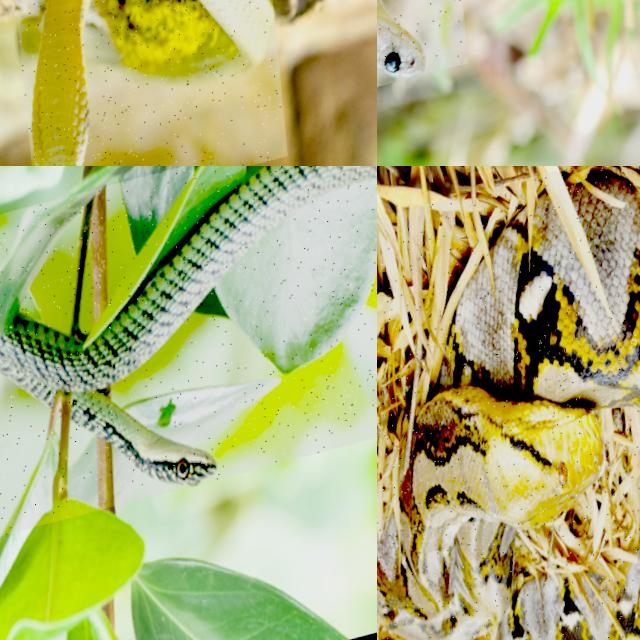Chrysopelea ornata: (0, 166, 376, 484)
Malayopython reticulatus: (377, 176, 639, 639)
Naja siamensis: (377, 5, 421, 78)
Ophiophagus hannah: (129, 0, 273, 82)
